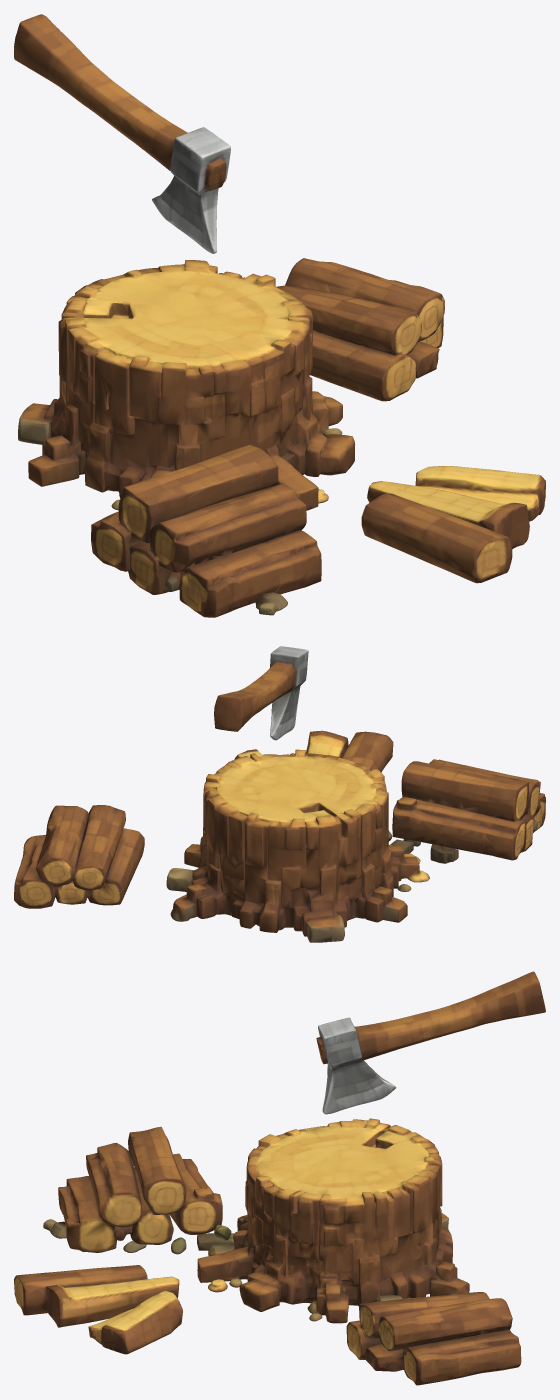
The model's file is firewood.glb.
3 renders of one model, top to bottom at view 1: azimuth 30°, elevation 25°; view 2: azimuth 150°, elevation 25°; view 3: azimuth 270°, elevation 25°, orthographic. The views are drawn at different scales.
Parts seen in each view (by area): view 1: tripo_node_0f59e880-02e0-45d4-a91e-6eccbbe80ac2; view 2: tripo_node_0f59e880-02e0-45d4-a91e-6eccbbe80ac2; view 3: tripo_node_0f59e880-02e0-45d4-a91e-6eccbbe80ac2.
Part boxes in pixels (x1,y1,x2,y2): tripo_node_0f59e880-02e0-45d4-a91e-6eccbbe80ac2: (14,14,545,617); tripo_node_0f59e880-02e0-45d4-a91e-6eccbbe80ac2: (14,646,545,942); tripo_node_0f59e880-02e0-45d4-a91e-6eccbbe80ac2: (14,971,545,1385).
Bounding box in the file's own units: 0.8538 × 0.5858 × 0.9998.
1 material, 1 textured.
